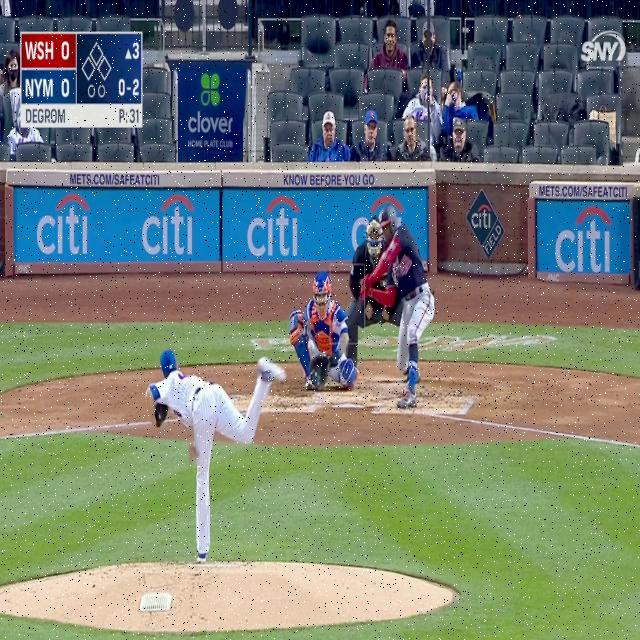baseball: (308, 340, 314, 350)
